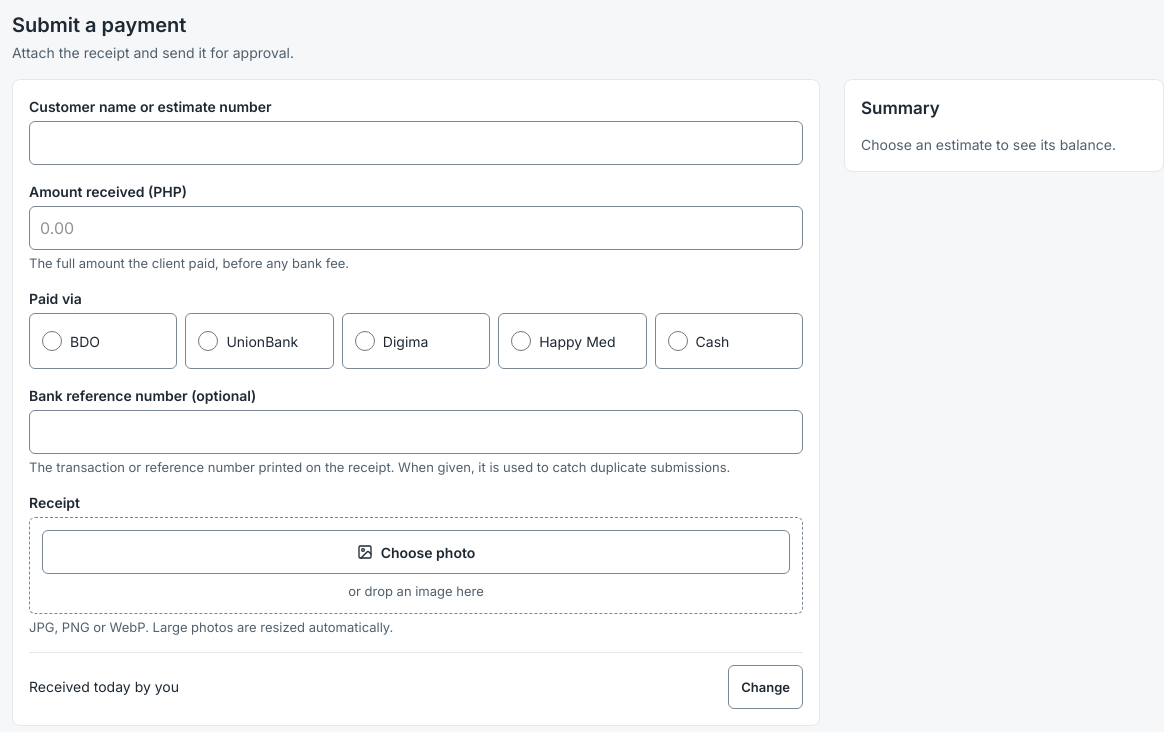
Test: SubmitPaymentPage › echoes the amount formatted and tidies it on blur
In the field labelled "Amount received (PHP)": (416, 228) [29,206,803,250], type "₱ 2500"
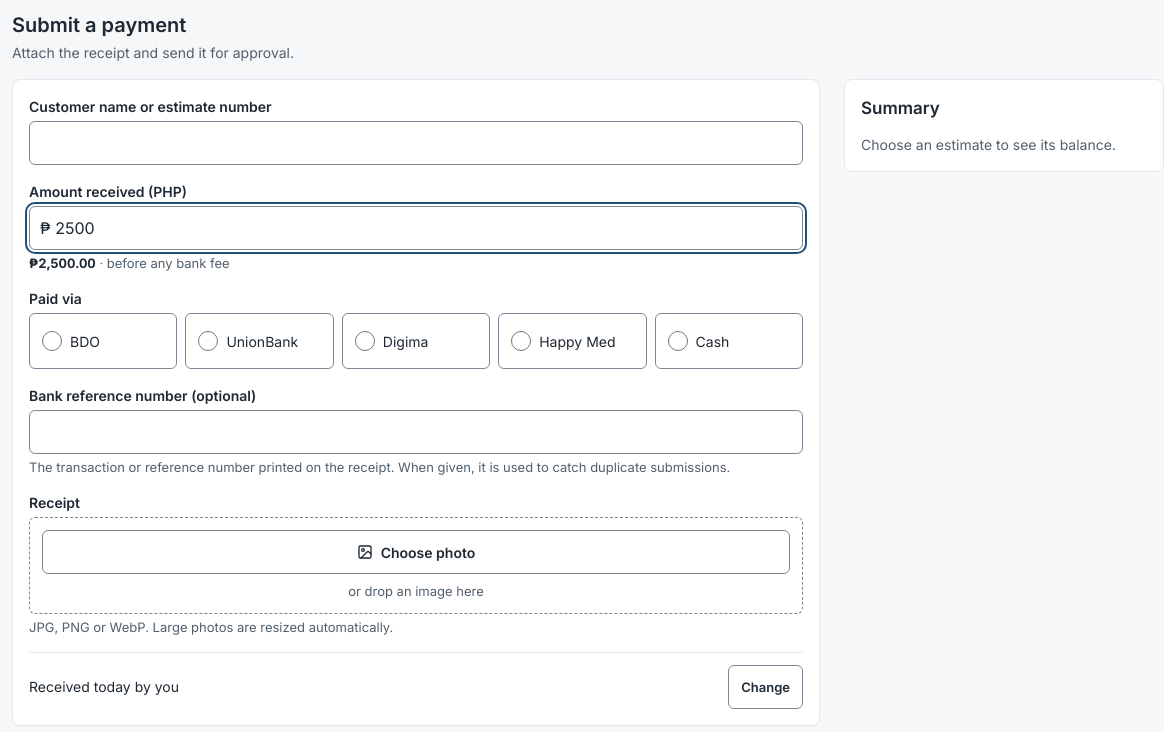
Result: the text "₱2,500.00" is shown at [29,255,96,271]
Press Tab
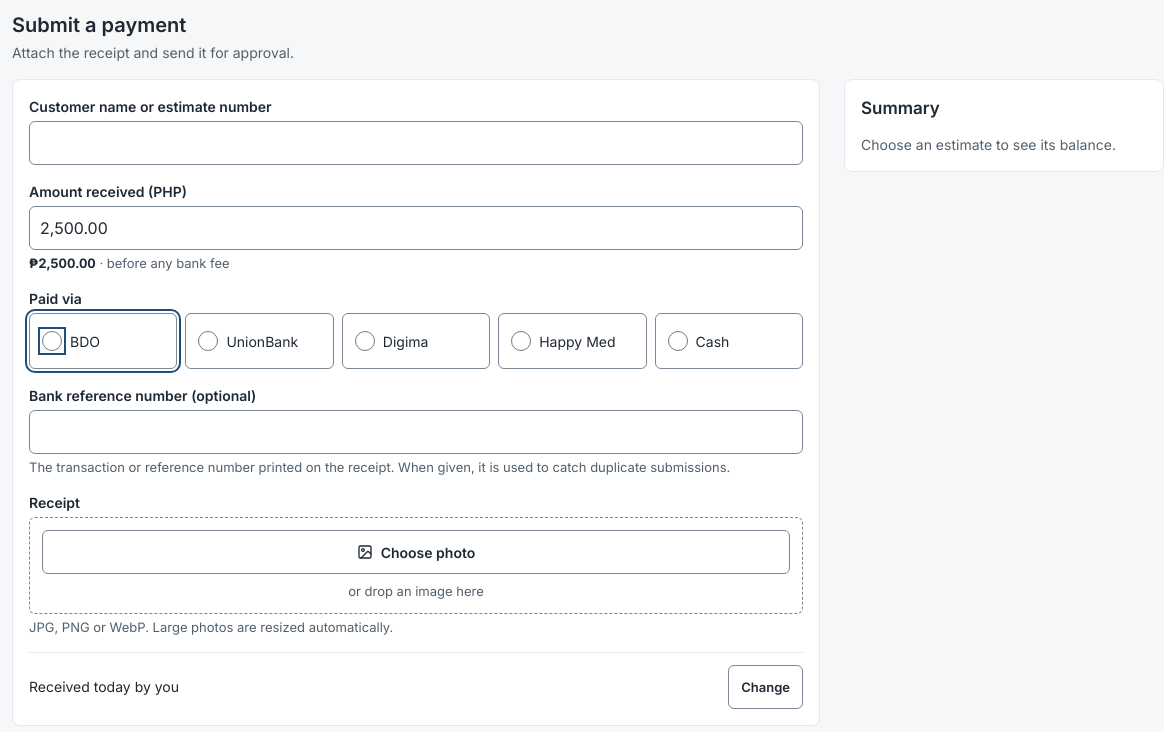
Result: the field labelled "Amount received (PHP)" holds "2,500.00" at [29,206,803,250]
